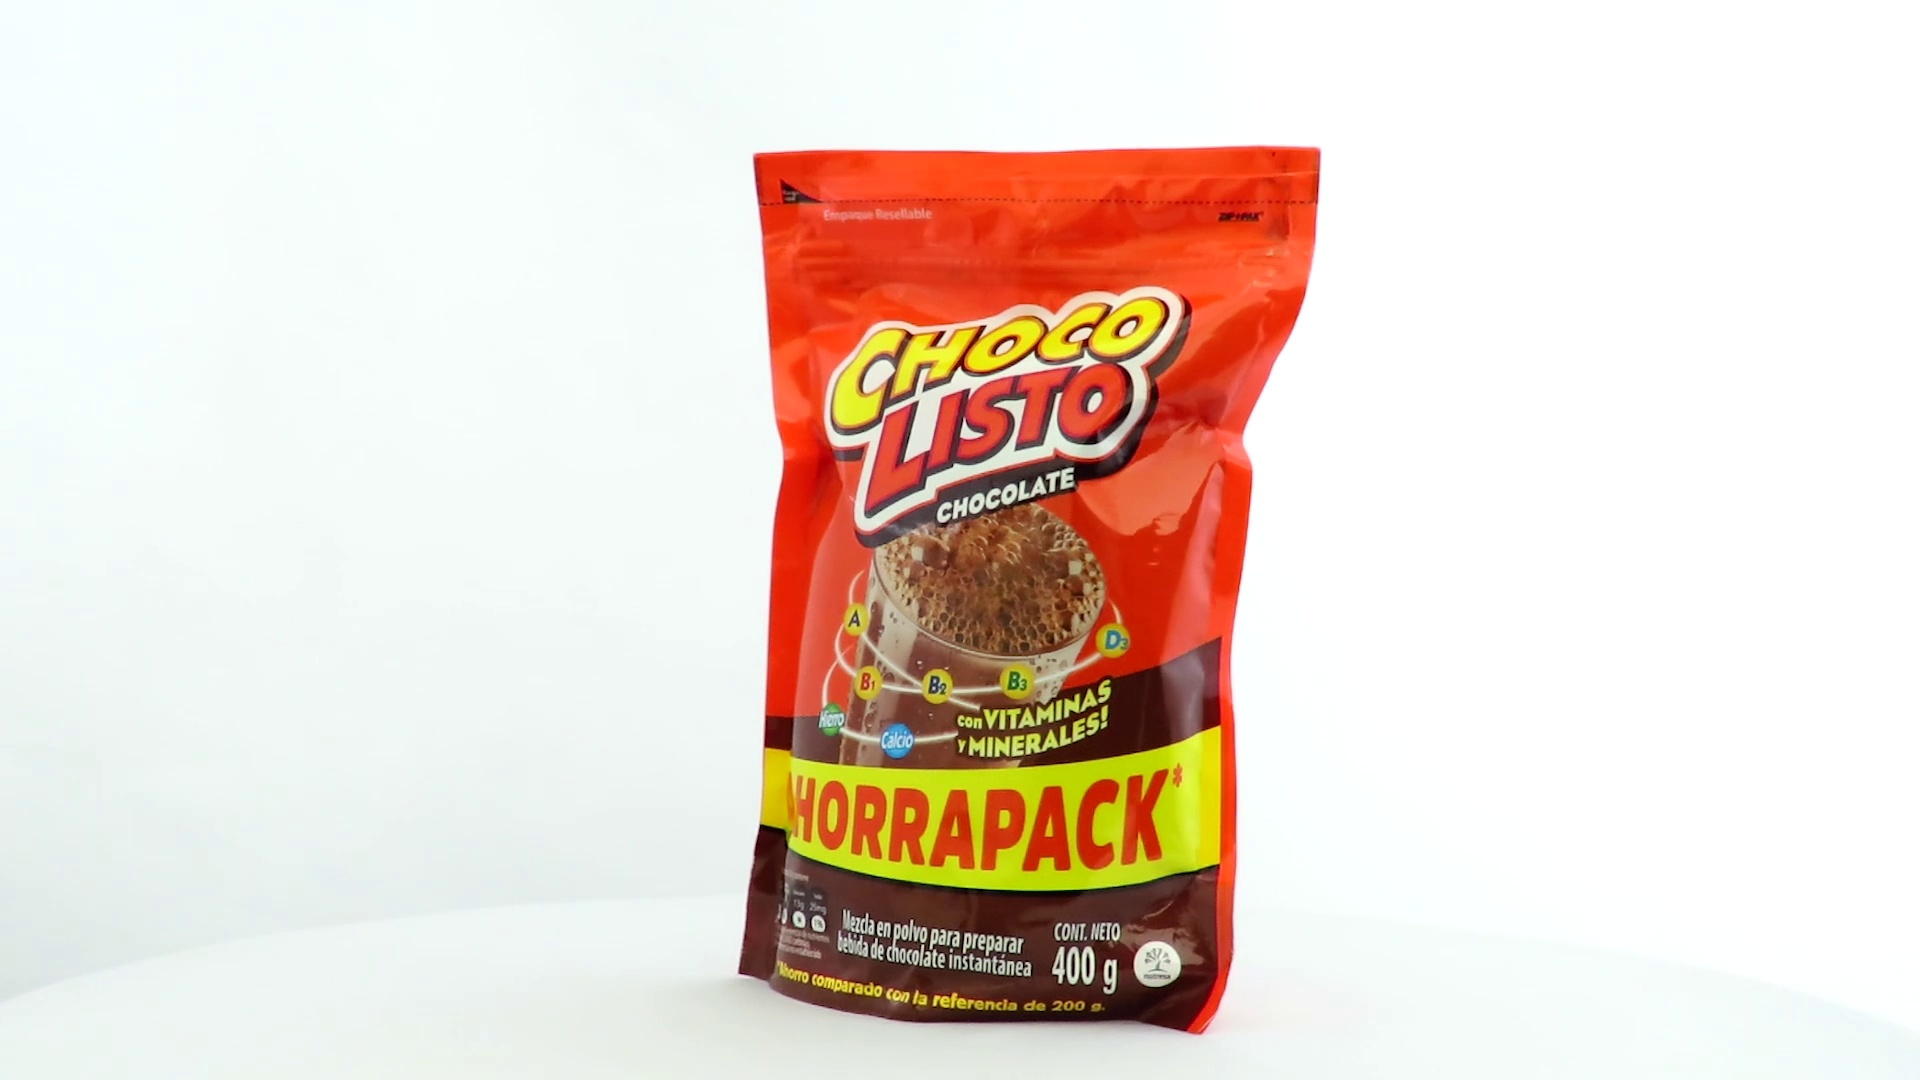COL0170103DYP40000: (733, 140, 1327, 1040)
